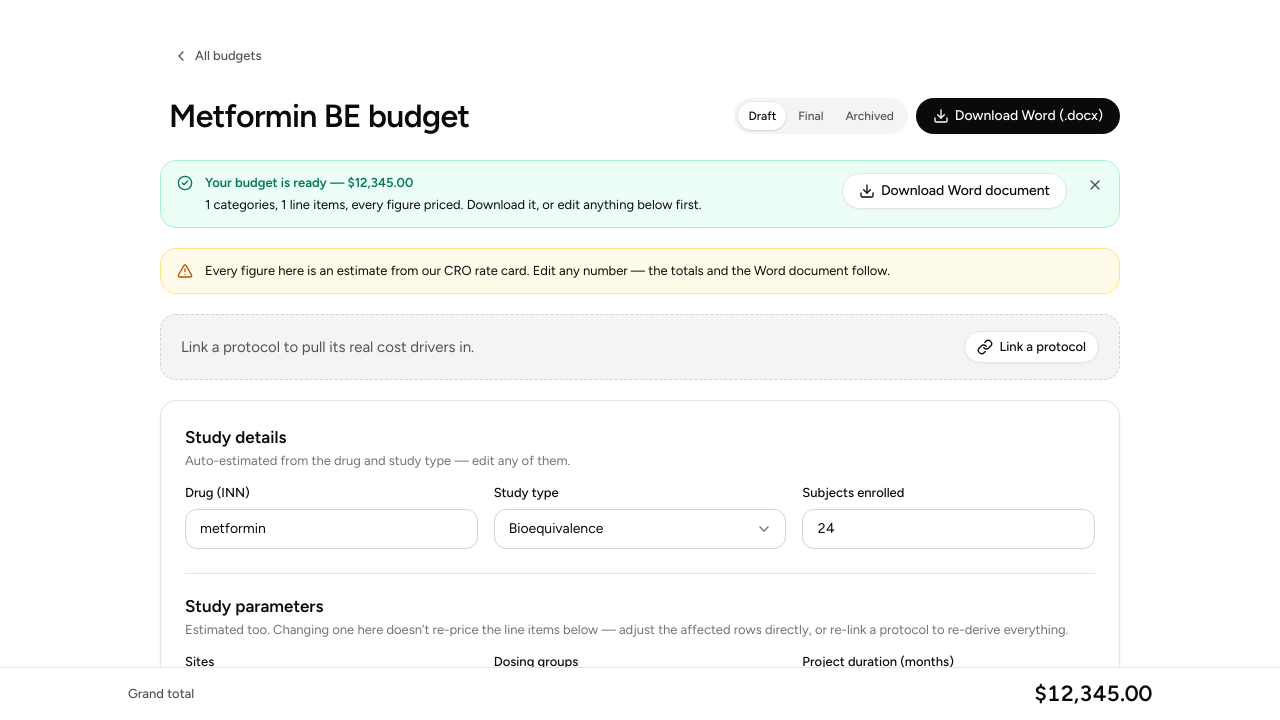
BudgetEditor › shows the one-time ready banner right after creation and lets it be dismissed
The image size is (1280, 720).
Expected: the text "Your budget is ready — $12,345.00" is shown, [205,175,413,190]
Expected: the button "Download Word document" is shown, [842,173,1067,209]
Step 1. Click the button named "Dismiss" → (1095, 185), box [1079,169,1111,201]
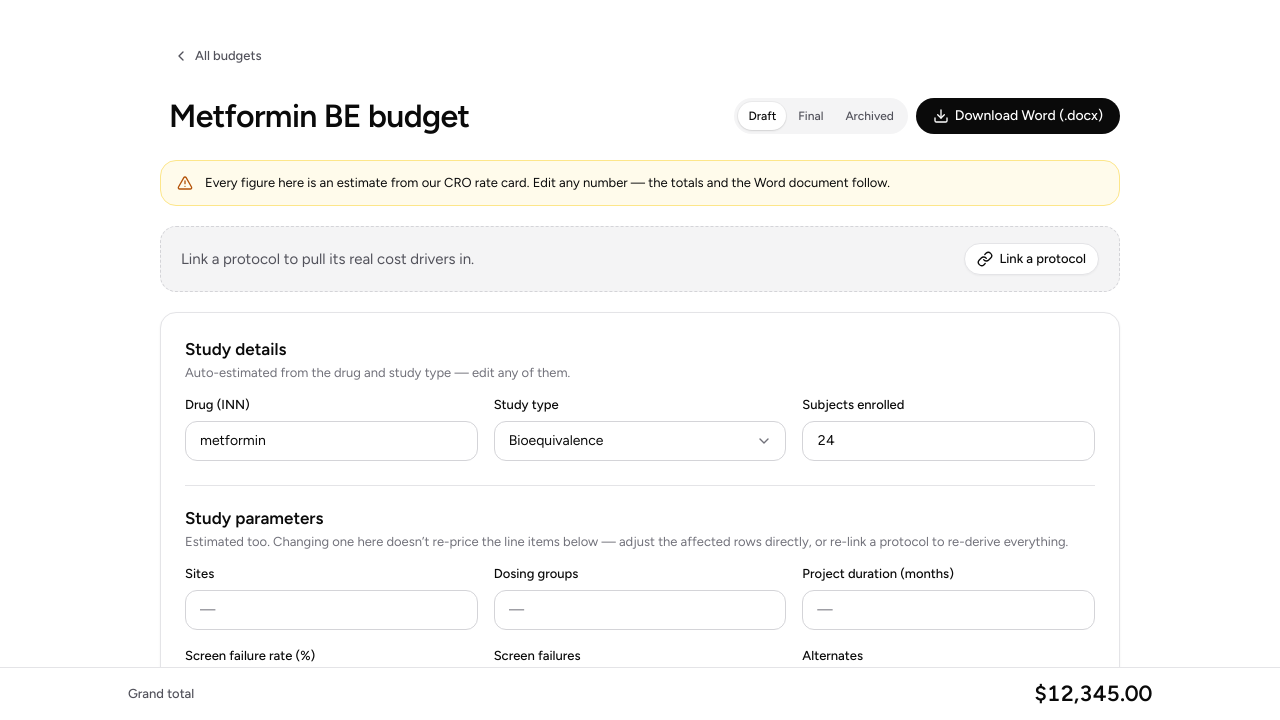
Result: the text "Your budget is ready" is gone
